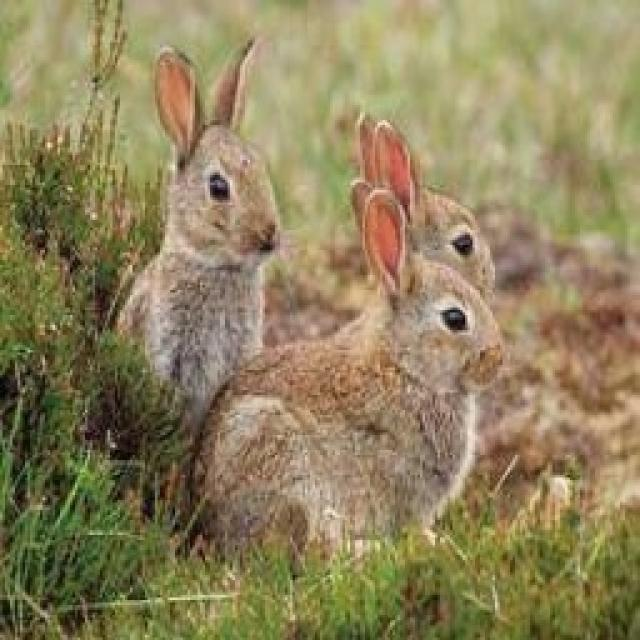not_pig: (186, 184, 502, 582), (106, 32, 286, 522), (356, 111, 499, 299)
